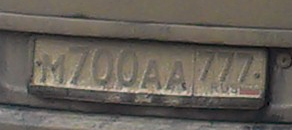character: (90, 45, 115, 91), (114, 47, 140, 90), (65, 44, 90, 86), (162, 59, 190, 93), (40, 53, 66, 86), (141, 58, 163, 94), (215, 48, 236, 83), (196, 48, 215, 83), (236, 50, 254, 85)
